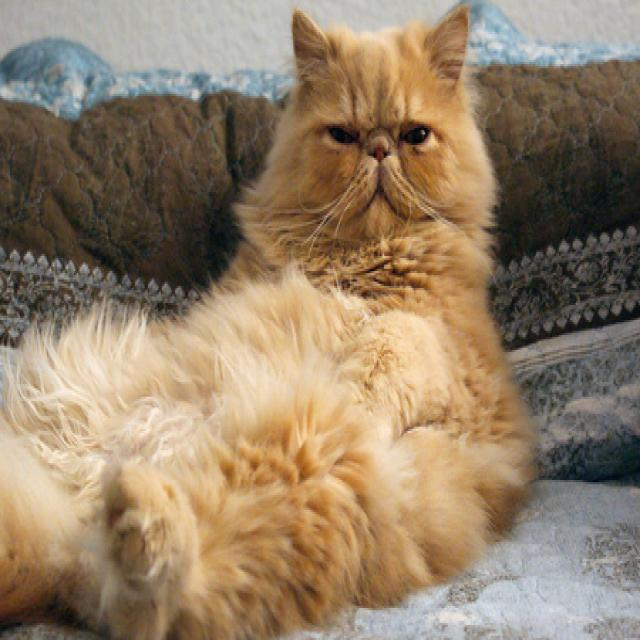Persian: (0, 0, 539, 640)
